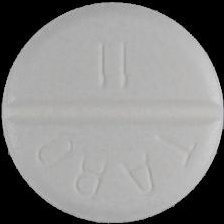51672-4005: (0, 0, 224, 224)
